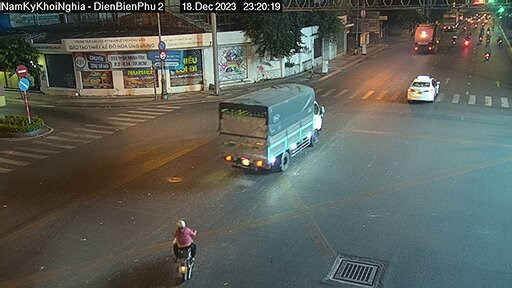car: (407, 73, 444, 103)
motorbike: (169, 218, 203, 280), (482, 44, 493, 60)
truck: (218, 81, 326, 174), (413, 21, 443, 55)
